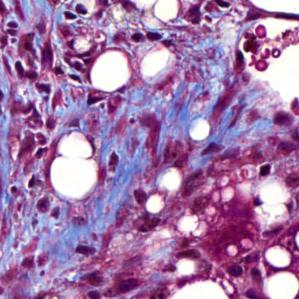steatosis: (90, 50, 135, 92)
